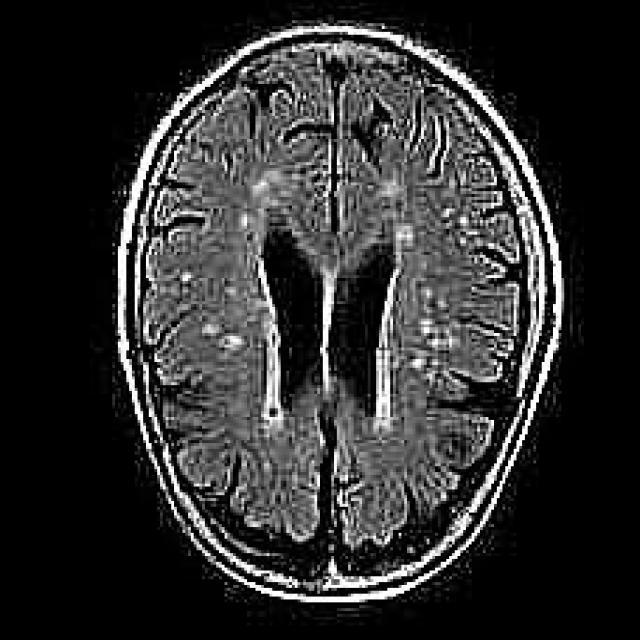notumor: (112, 23, 564, 608)
